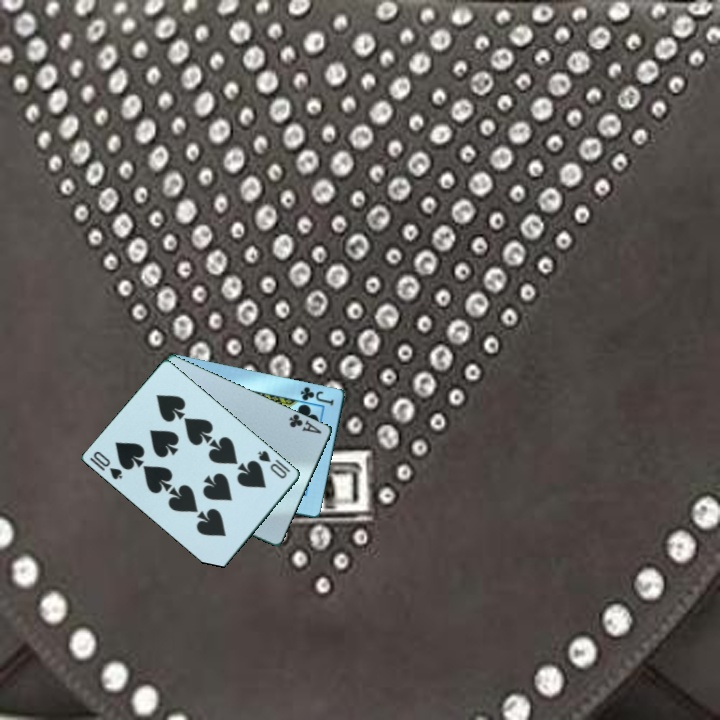10s: (87, 447, 126, 483), (255, 447, 294, 482)
Ac: (286, 410, 325, 437)
Jc: (297, 383, 337, 408)
